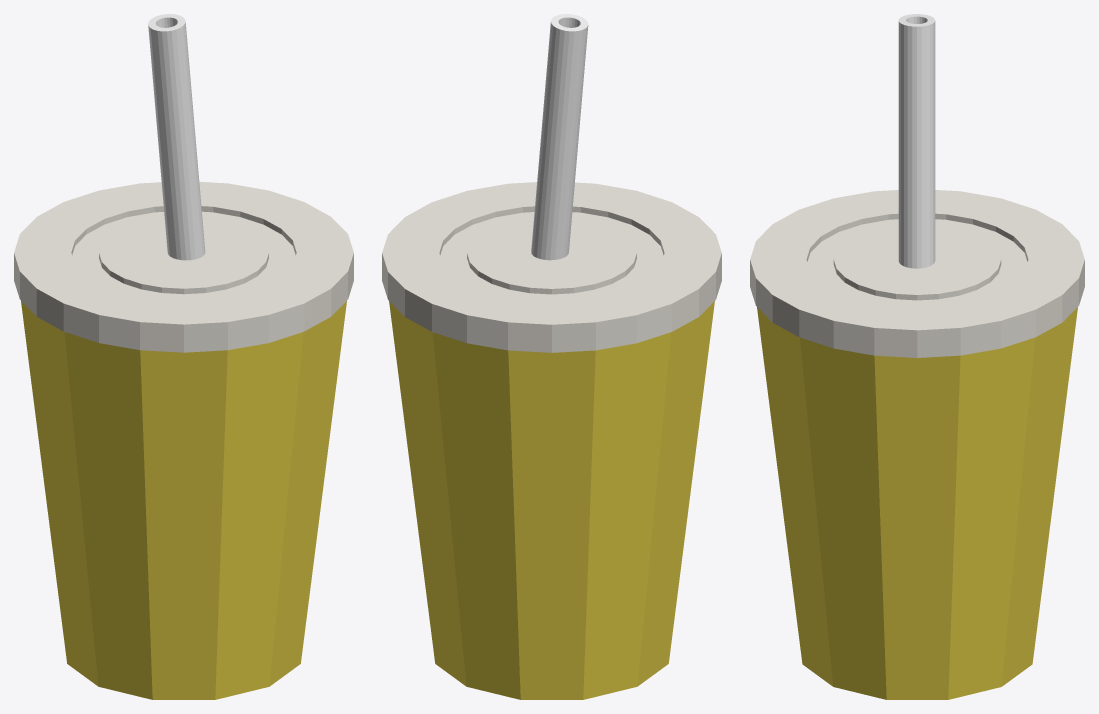
File: Fast Food Cup 2.glb
3 renders of one model, left to right at view 1: azimuth 30°, elevation 25°; view 2: azimuth 150°, elevation 25°; view 3: azimuth 270°, elevation 25°, orthographic.
Parts seen in each view (by area): view 1: Drink; view 2: Drink; view 3: Drink.
Part boxes in pixels (x1,y1,x2,y2): Drink: [14, 14, 353, 699]; Drink: [382, 14, 721, 699]; Drink: [750, 14, 1084, 699].
Size of the model in its own units: 0.5818 by 1.2 by 0.5818.
